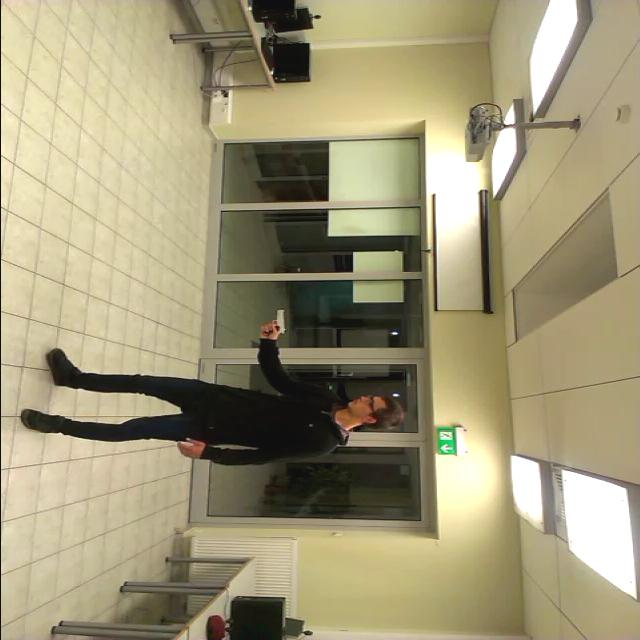handgun: (249, 304, 293, 339)
